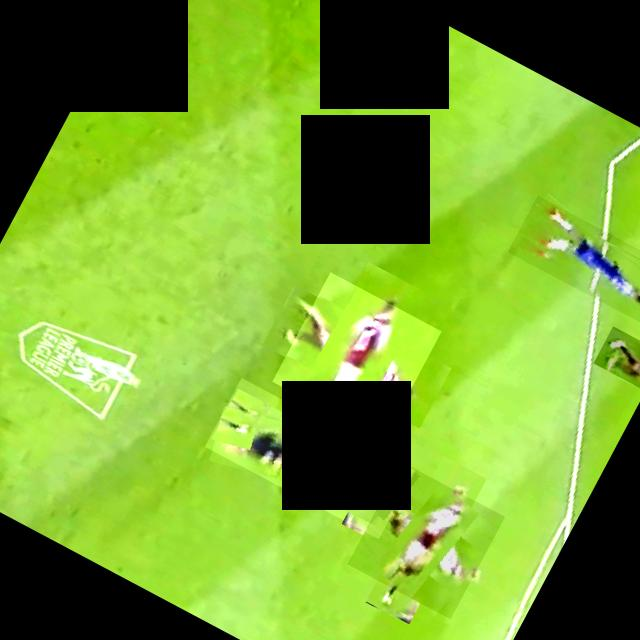referee: (203, 377, 414, 538)
soccer-player: (271, 272, 440, 440), (346, 462, 504, 618), (506, 195, 640, 331), (591, 325, 640, 390)
